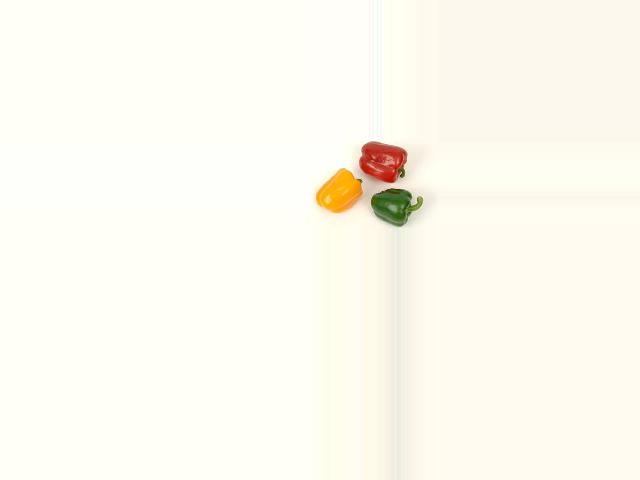bell_pepper: (370, 186, 424, 227)
